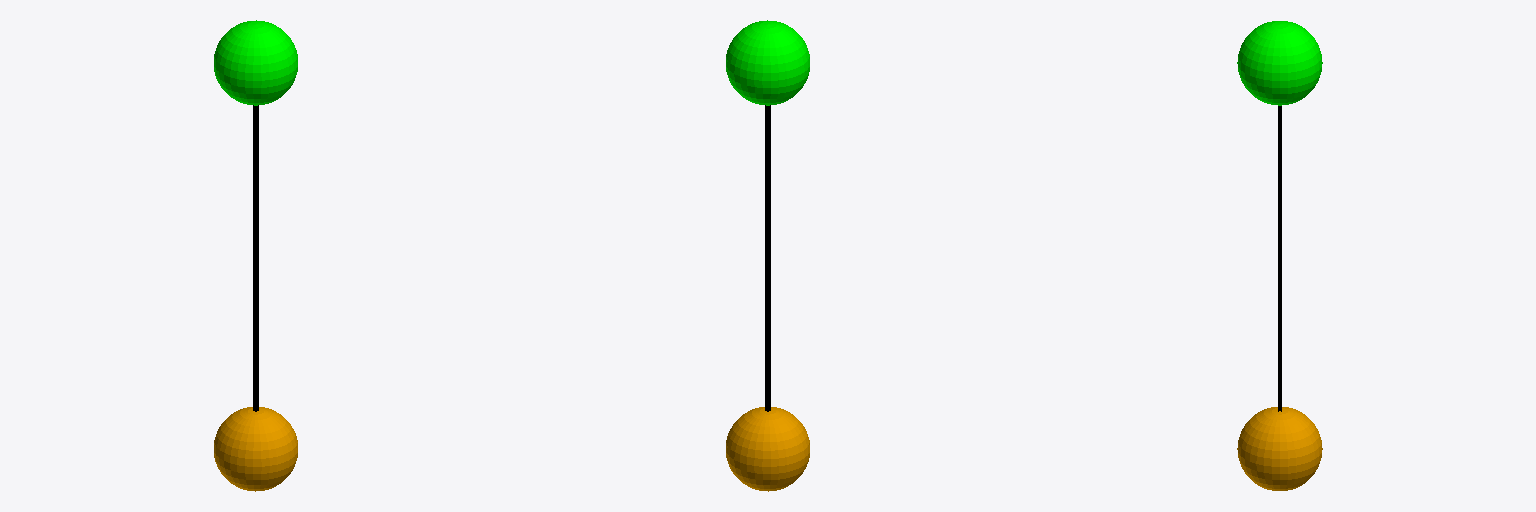
URDF robot description (eef):
<?xml version="1.0" ?>
<robot name="eef" xmlns:xacro="http://www.ros.org/wiki/xacro">
 <!-- Ball EEF -->
    <link name="X">
    <visual>
        <geometry>
        <sphere radius=".01"/>
        </geometry>
    </visual>
    </link>
    
    <link name="Y">
    <visual>
        <geometry>
        <sphere radius=".01"/>
        </geometry>
    </visual>
    </link>
    
    <link name="Z">
    <visual>
        <geometry>
        <sphere radius=".01"/>
        </geometry>
    </visual>
    </link>

    <link name="X_rot">
    <visual>
        <geometry>
        <sphere radius=".01"/>
        </geometry>
    </visual>
    </link>

    <link name="Y_rot">
    <visual>
        <geometry>
        <sphere radius=".01"/>
        </geometry>
    </visual>
    </link>

    <link name="Z_rot">
    <visual>
        <geometry>
        <sphere radius=".01"/>
        </geometry>
    </visual>
    </link>

    <link name="sphere_center">
    <visual>
        <geometry>
        <sphere radius=".01"/>
        </geometry>
    </visual>
    </link>

    <link name="ball_EEF_rod">
    <visual>
    <geometry>
        <box size=".001 .001 .1"/>
    </geometry>
    <material name="rod"/>
    </visual>
    <collision>
    <geometry>
        <box size=".001 .001 .1"/>
    </geometry>
    <material name="rod"/>
    </collision>
    </link>

    <link name="ball_EEF">
    <visual>
    <geometry>
        <sphere radius=".01"/>
    </geometry>
    <material name="ball"/>
    </visual>
    <collision>
    <geometry>
        <sphere radius=".01"/>
    </geometry>
    <material name="ball"/>
    </collision>
    </link>


    <joint name="ball_EEF_joint" type="fixed">
    <parent link="ball_EEF_rod"/>
    <child link="ball_EEF"/>
    <origin xyz="0 0 .05"/>
    </joint>

    <joint name="sphere_center_joint" type="fixed">
    <parent link="sphere_center"/>
    <child link="ball_EEF_rod"/>
    <origin xyz="0 0 .05"/>
    </joint>


    <joint name="x_joint" type="prismatic">
    <parent link="X"/>
    <child link="Y"/>
    <origin rpy="0 0 0" xyz="0 0 0"/>
    <axis xyz="1 0 0"/>
    <dynamics damping="10.0"/>
    <limit effort="12" lower="-100" upper="100" velocity="100"/>
    </joint>
    <joint name="y_joint" type="prismatic">
    <parent link="Y"/>
    <child link="Z"/>
    <origin rpy="0 0 0" xyz="0 0 0"/>
    <axis xyz="0 1 0"/>
    <dynamics damping="10.0"/>
    <limit effort="12" lower="-100" upper="100" velocity="100"/>
    </joint>
    <joint name="z_joint" type="prismatic">
    <parent link="Z"/>
    <child link="X_rot"/>
    <origin rpy="0 0 0" xyz="0 0 0"/>
    <axis xyz="0 0 1"/>
    <dynamics damping="10.0"/>
    <limit effort="12" lower="-100" upper="100" velocity="100"/>
    </joint>

    <joint name="x_rot_joint" type="revolute">
    <parent link="X_rot"/>
    <child link="Y_rot"/>
    <origin rpy="0 0 0" xyz="0 0 0"/>
    <axis xyz="1 0 0"/>
    <dynamics damping="10.0"/>
    <limit effort="12" lower="-100" upper="100" velocity="100"/>
    </joint>
    <joint name="y_rot_joint" type="revolute">
    <parent link="Y_rot"/>
    <child link="Z_rot"/>
    <origin rpy="0 0 0" xyz="0 0 0"/>
    <axis xyz="0 1 0"/>
    <dynamics damping="10.0"/>
    <limit effort="12" lower="-100" upper="100" velocity="100"/>
    </joint>
    <joint name="z_rot_joint" type="revolute">
    <parent link="Z_rot"/>
    <child link="sphere_center"/>
    <origin rpy="0 0 0" xyz="0 0 0"/>
    <axis xyz="0 0 1"/>
    <dynamics damping="10.0"/>
    <limit effort="12" lower="-100" upper="100" velocity="100"/>
    </joint>

    <material name="ball">
    <color rgba="0. 1. 0. 1."/>
    </material>
    <material name="rod">
    <color rgba="0. 0. 0. 1."/>
    </material>
</robot>

--- Facts derived from the render (not from the file) ---
The picture shows the robot from 3 angles, left to right: view 1: azimuth 30°, elevation 25°; view 2: azimuth 150°, elevation 25°; view 3: azimuth 270°, elevation 25°; orthographic projection.
Model eef with 9 links and 8 joints (3 revolute, 3 prismatic, 2 fixed), rooted at X, posed every joint at zero.
Links seen in each view (by area): view 1: ball_EEF, X, ball_EEF_rod; view 2: ball_EEF, X, ball_EEF_rod; view 3: ball_EEF, X, ball_EEF_rod.
Link boxes in pixels (x1,y1,x2,y2): ball_EEF: (214, 20, 297, 105); X: (214, 407, 297, 491); ball_EEF_rod: (253, 105, 258, 411); ball_EEF: (726, 20, 809, 105); X: (726, 407, 809, 491); ball_EEF_rod: (765, 105, 770, 411); ball_EEF: (1237, 21, 1322, 105); X: (1237, 407, 1322, 490); ball_EEF_rod: (1278, 106, 1281, 411).
Bounding box of the posed robot: 0.02 × 0.02 × 0.12 m (x, y, z).
Geometry: primitives only (box / cylinder / sphere), no mesh files.